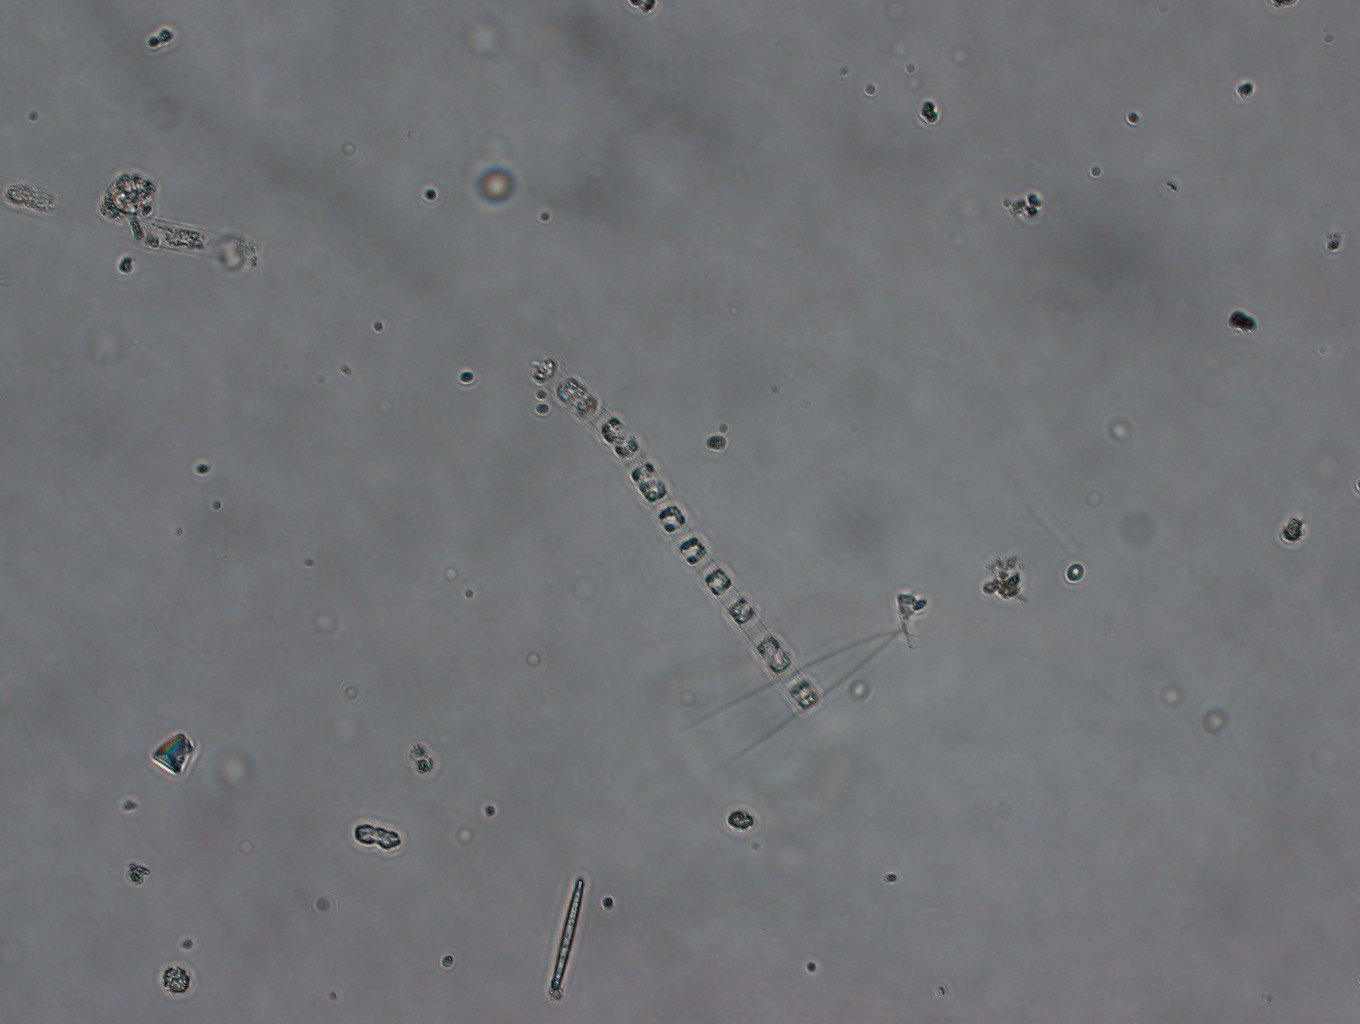skeletonema: (558, 373, 828, 723)
